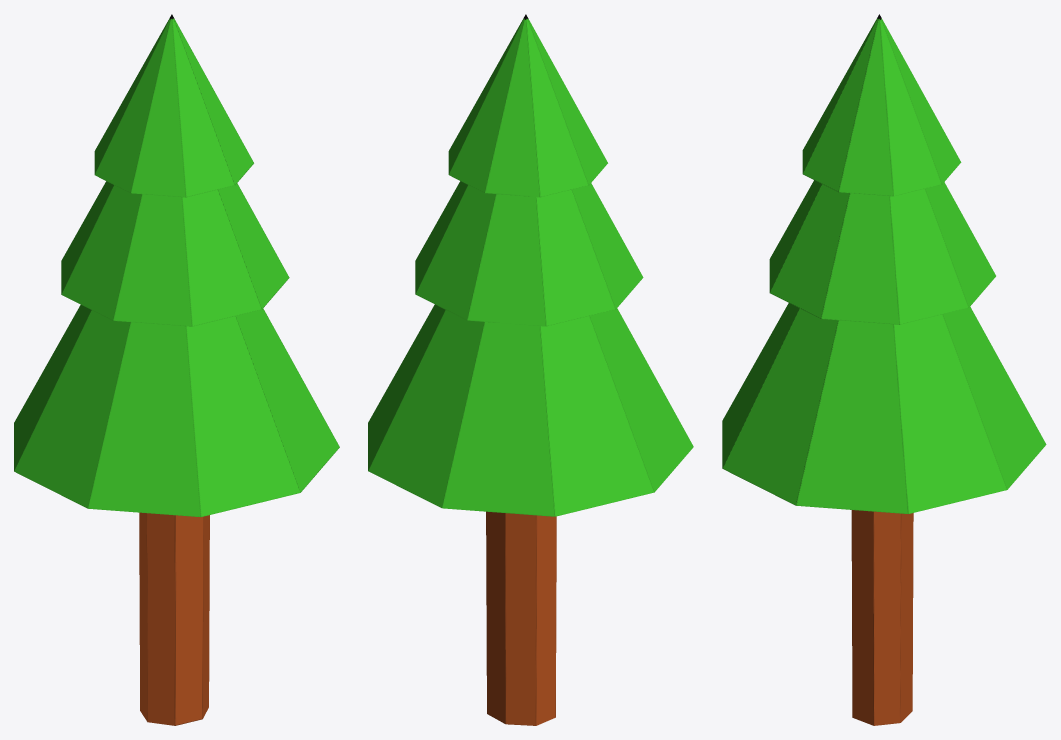
Rendered from PineTreefbx.fbx.
3 renders of one model, left to right at view 1: azimuth 30°, elevation 25°; view 2: azimuth 150°, elevation 25°; view 3: azimuth 270°, elevation 25°, orthographic.
Visible parts, largest first — view 1: Pinetree; view 2: Pinetree; view 3: Pinetree.
Boxes of the visible parts, x1,y1,x2,y2 form: Pinetree: [14, 14, 339, 725]; Pinetree: [368, 14, 693, 725]; Pinetree: [722, 14, 1046, 725].
Size of the model in its own units: 727 by 1695 by 716.
Materials: 1 (1 with a texture image).
